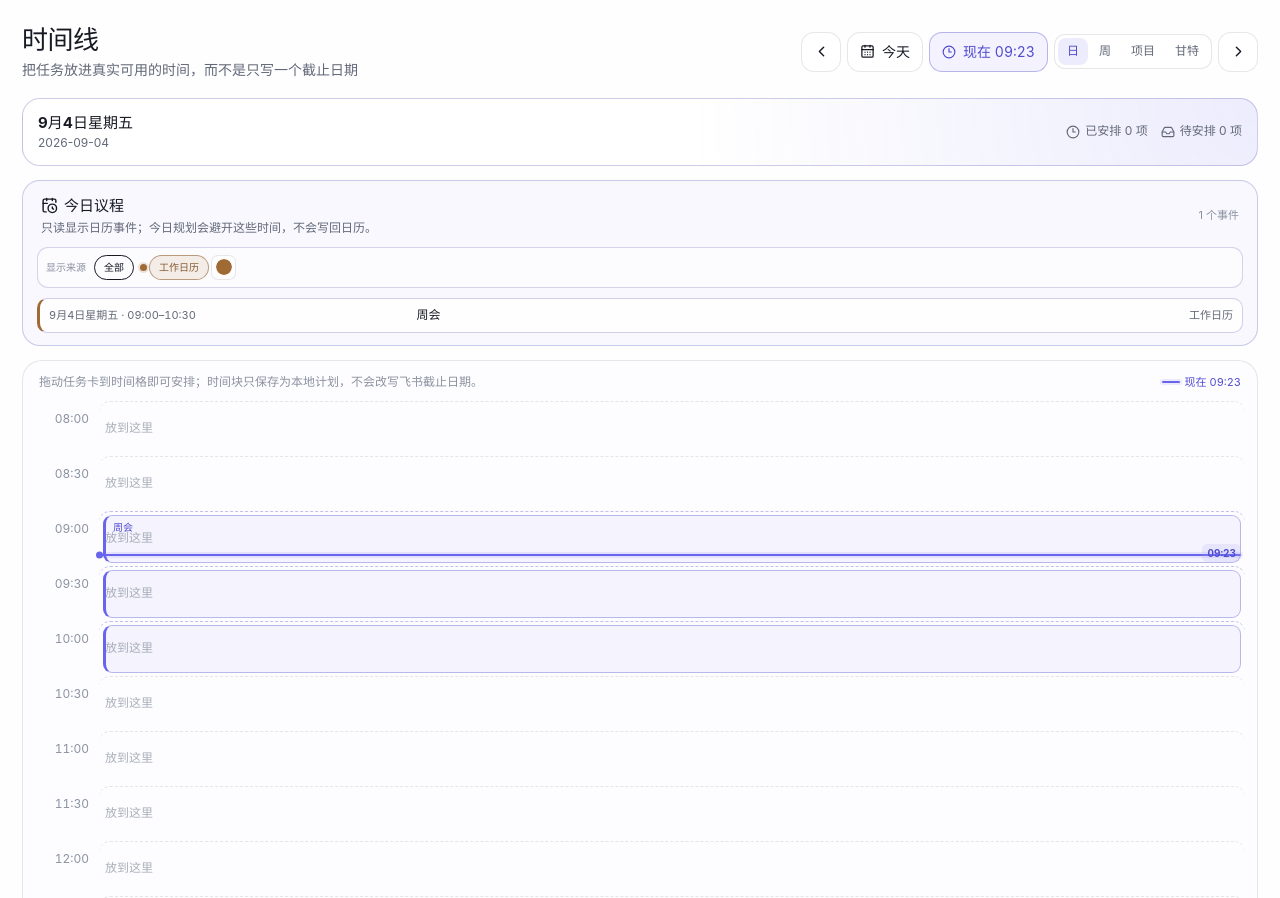
Test: TimelinePage › surfaces calendar load in the week overview
The image size is (1280, 898).
Step 1. Click the button "周" → (1105, 52), box [1090,38,1120,65]
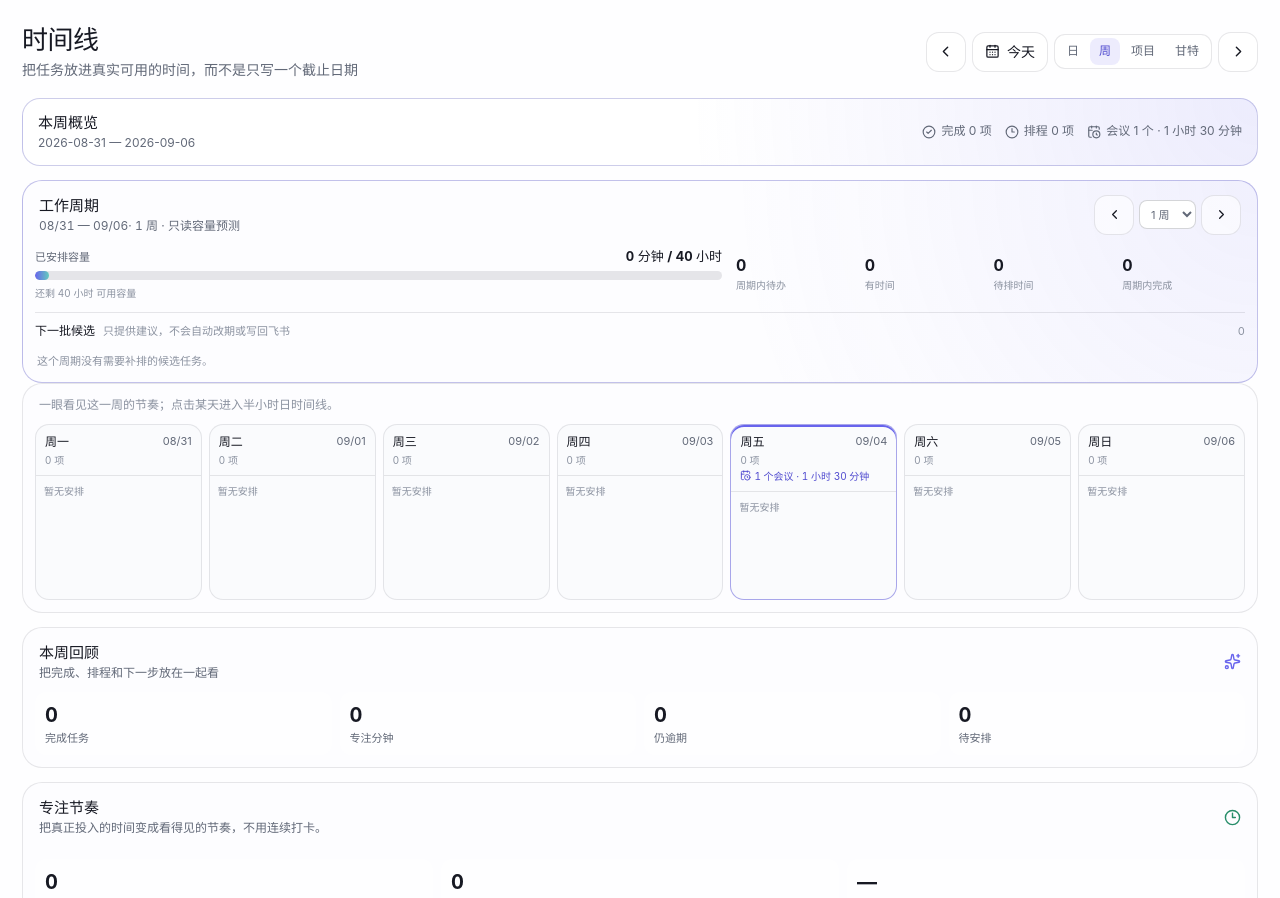
Expected: the text "会议 1 个 · 1 小时 30 分钟" is shown, [1087,123,1242,140]
Expected: the text "1 个会议 · 1 小时 30 分钟" is shown, [740,469,887,483]
